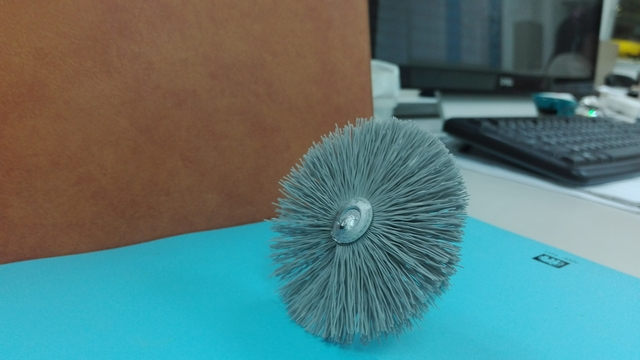TOOL: (265, 73, 542, 323), (186, 84, 444, 335), (231, 111, 498, 346), (271, 126, 486, 351)
